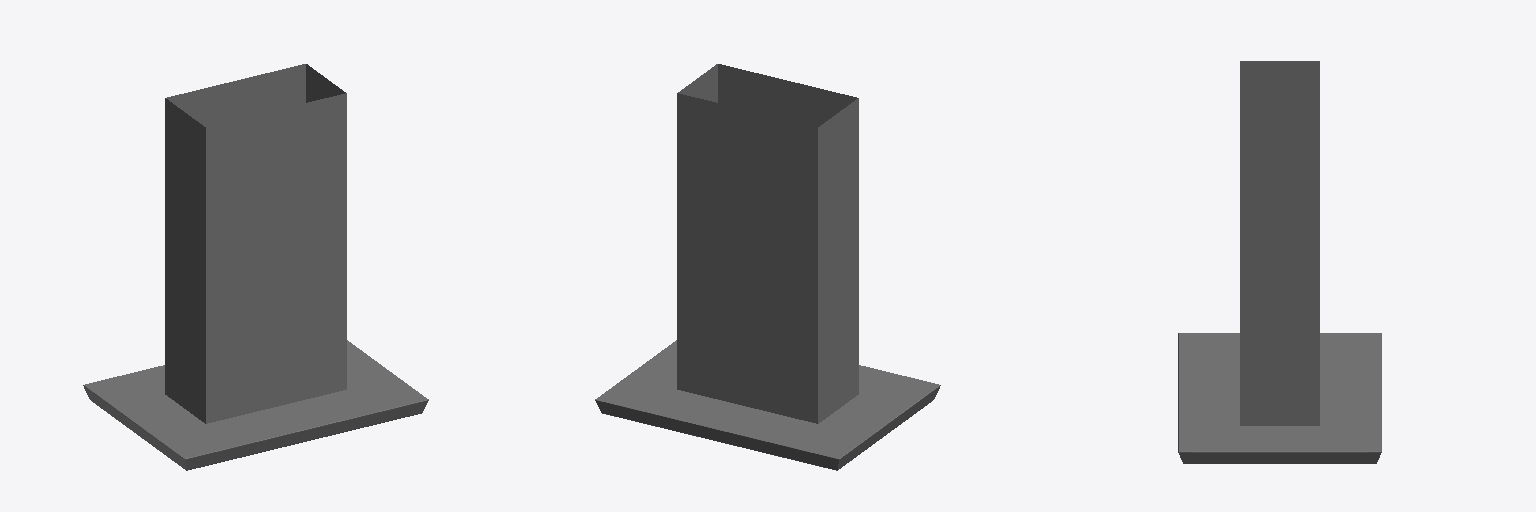
File: Vent.obj
3 renders of one model, left to right at view 1: azimuth 30°, elevation 25°; view 2: azimuth 150°, elevation 25°; view 3: azimuth 270°, elevation 25°, orthographic.
Parts seen in each view (by area): view 1: Object01; view 2: Object01; view 3: Object01.
Part boxes in pixels (bbox=[...]): Object01: bbox=[83, 64, 428, 470]; Object01: bbox=[595, 64, 940, 470]; Object01: bbox=[1178, 61, 1381, 463].
Size of the model in its own units: 0.5978 by 0.7507 by 0.4311.